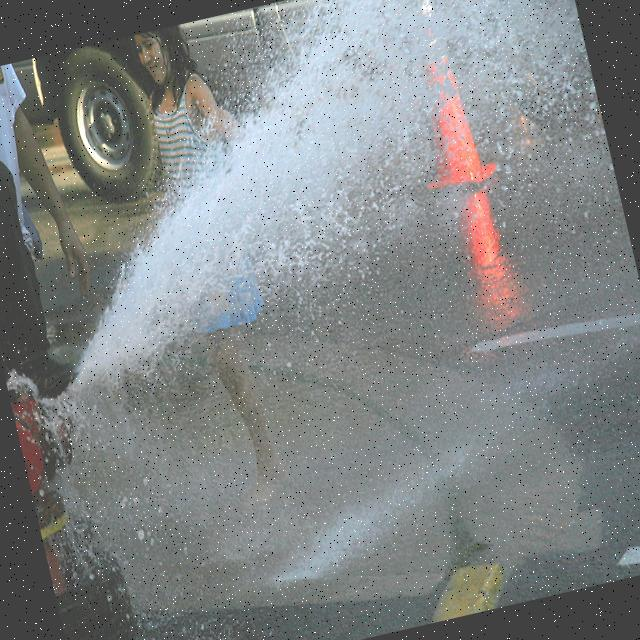fire_hydrant: (4, 361, 123, 632)
